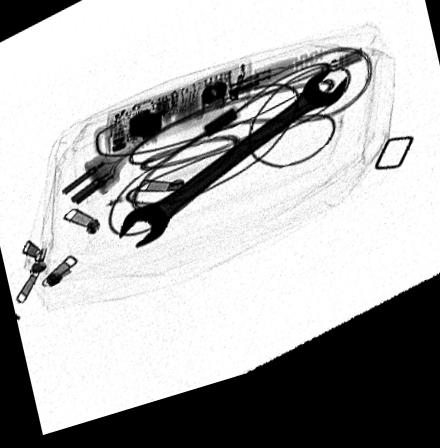Wrench: (117, 83, 349, 255)
